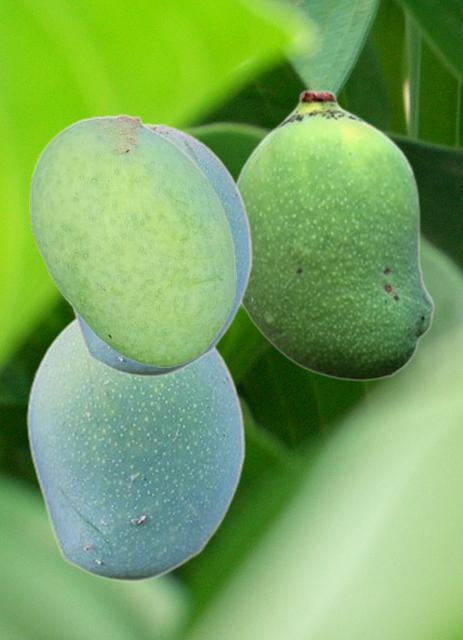green_mango: (25, 316, 245, 582), (235, 89, 434, 381), (29, 113, 235, 366), (69, 122, 252, 377)
